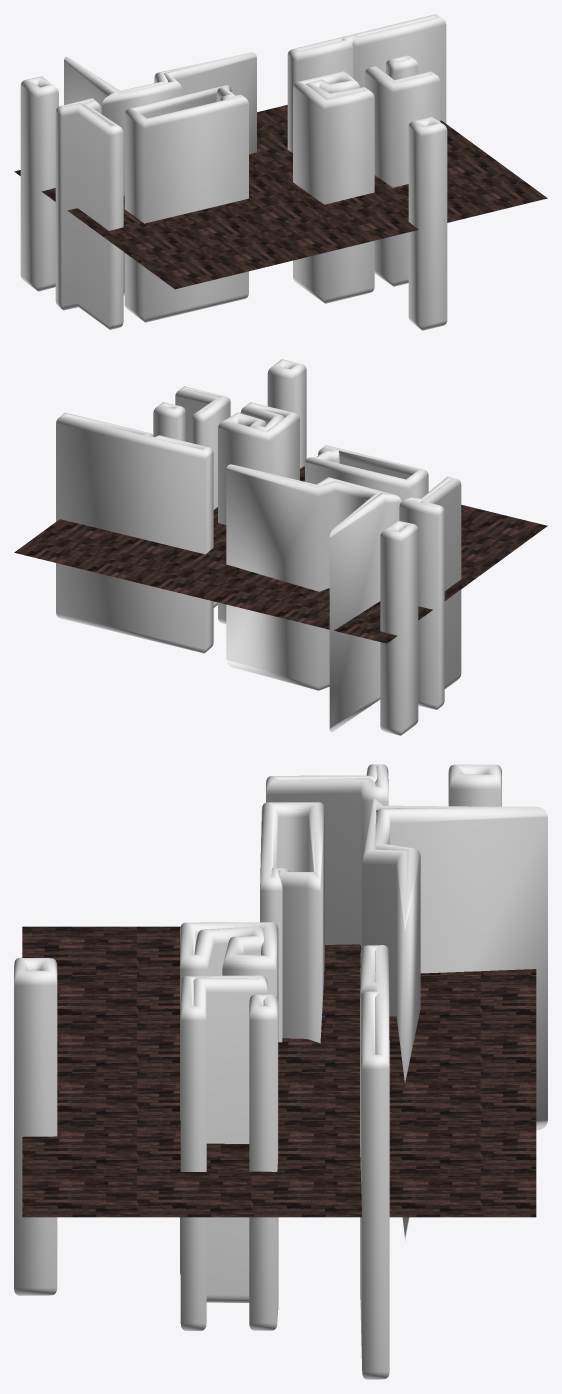
File: test_img_output.glb
3 renders of one model, top to bottom at view 1: azimuth 30°, elevation 25°; view 2: azimuth 150°, elevation 25°; view 3: azimuth 270°, elevation 25°, orthographic. The views are drawn at different scales.
Visible parts, largest first — view 1: Floor, wall_4, wall_5, wall_3, wall_0, wall_7, wall_6, wall_1, wall_8, wall_2; view 2: wall_8, wall_6, Floor, wall_5, wall_7, wall_3, wall_4, wall_1, wall_0, wall_2; view 3: Floor, wall_8, wall_1, wall_4, wall_6, wall_0, wall_5, wall_2, wall_3, wall_7.
Part boxes in pixels (left/top/right/bottom): Floor: left=14, top=105, right=547, bottom=289; wall_4: left=124, top=85, right=248, bottom=322; wall_5: left=55, top=98, right=123, bottom=329; wall_3: left=293, top=71, right=374, bottom=303; wall_0: left=408, top=116, right=447, bottom=330; wall_7: left=20, top=76, right=58, bottom=291; wall_6: left=287, top=14, right=446, bottom=152; wall_1: left=364, top=66, right=440, bottom=286; wall_8: left=64, top=52, right=256, bottom=295; wall_2: left=386, top=55, right=418, bottom=79; wall_8: left=226, top=464, right=401, bottom=732; wall_6: left=56, top=412, right=213, bottom=653; Floor: left=14, top=466, right=547, bottom=643; wall_5: left=399, top=476, right=461, bottom=709; wall_7: left=380, top=520, right=418, bottom=735; wall_3: left=218, top=402, right=299, bottom=624; wall_4: left=305, top=445, right=428, bottom=501; wall_1: left=175, top=386, right=230, bottom=607; wall_0: left=267, top=359, right=306, bottom=468; wall_2: left=153, top=402, right=185, bottom=441; Floor: left=22, top=926, right=536, bottom=1217; wall_8: left=362, top=797, right=547, bottom=1241; wall_1: left=180, top=975, right=267, bottom=1330; wall_4: left=260, top=802, right=324, bottom=1043; wall_6: left=360, top=945, right=389, bottom=1379; wall_0: left=14, top=957, right=57, bottom=1295; wall_5: left=266, top=764, right=388, bottom=948; wall_2: left=249, top=994, right=278, bottom=1330; wall_3: left=180, top=922, right=278, bottom=1274; wall_7: left=448, top=764, right=501, bottom=806.
Bounding box in the file's own units: 12.67 × 6.42 × 9.6.
Materials: 10 (1 with a texture image).
